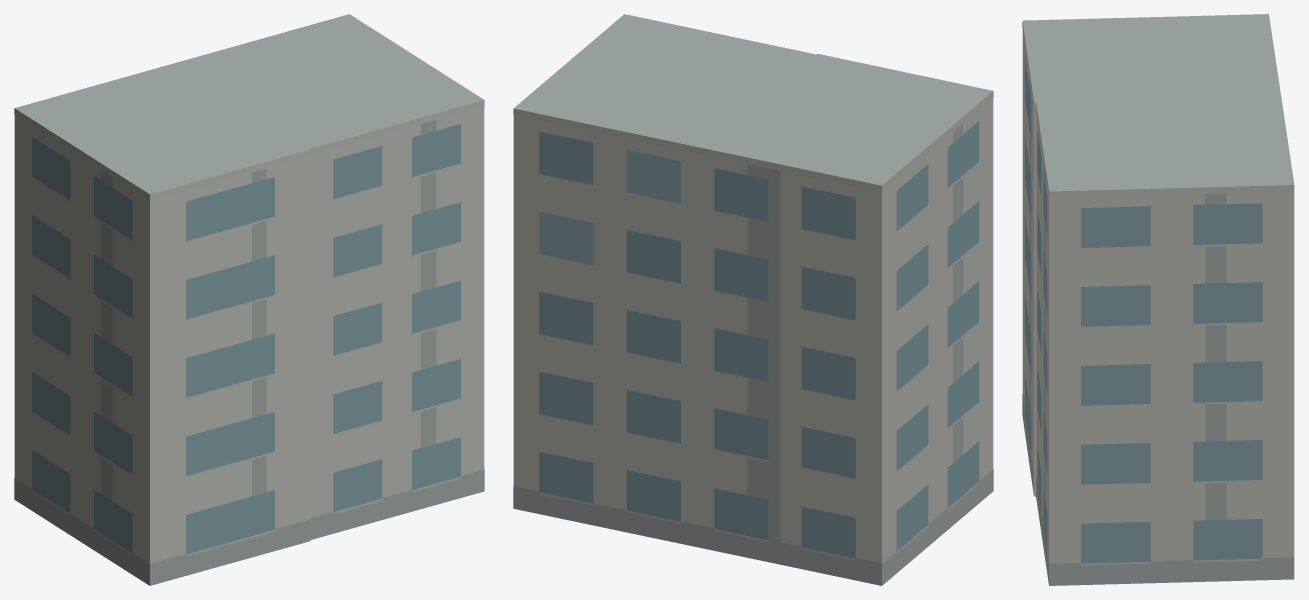
File: survey-upis-32887739.glb
3 renders of one model, left to right at view 1: azimuth 30°, elevation 25°; view 2: azimuth 150°, elevation 25°; view 3: azimuth 270°, elevation 25°, orthographic. The views are drawn at different scales.
Visible parts, largest first — view 1: survey-upis-32887739.tmp; view 2: survey-upis-32887739.tmp; view 3: survey-upis-32887739.tmp.
Boxes of the visible parts, <box> form: survey-upis-32887739.tmp: <box>14,14,484,585</box>; survey-upis-32887739.tmp: <box>513,14,993,585</box>; survey-upis-32887739.tmp: <box>1022,14,1294,585</box>.
Size of the model in its own units: 14.1 by 14.6 by 9.14.
